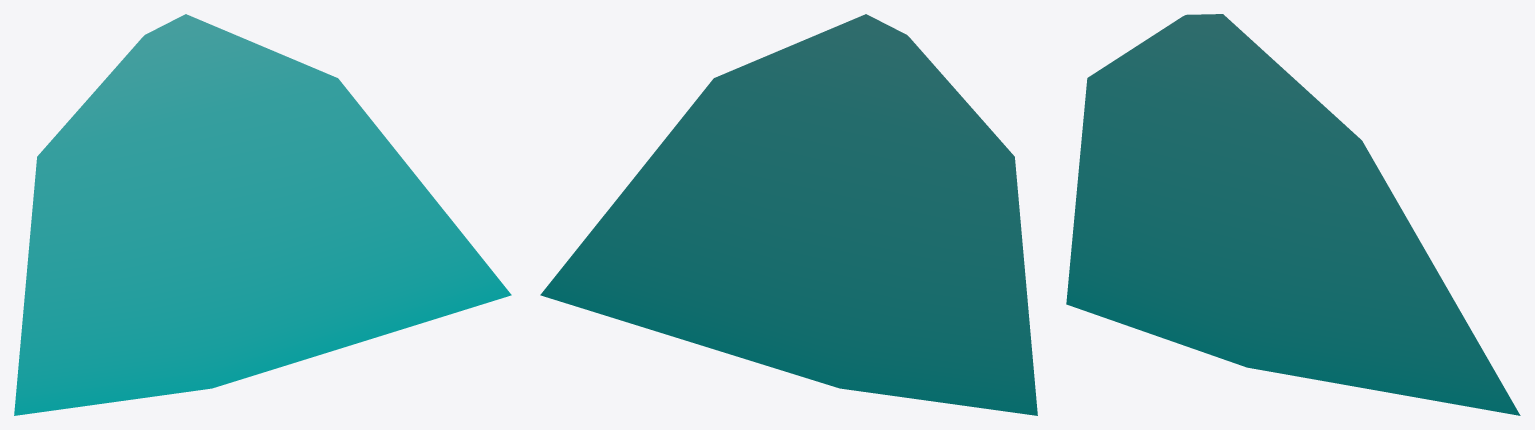
The model's file is Dead_Shrubs_vdknafgha_Low_vdknafgha_VarF_LOD3.fbx.
3 renders of one model, left to right at view 1: azimuth 30°, elevation 25°; view 2: azimuth 150°, elevation 25°; view 3: azimuth 330°, elevation 25°, orthographic. The views are drawn at different scales.
Parts seen in each view (by area): view 1: _yfr3_VarF_LOD4; view 2: _yfr3_VarF_LOD4; view 3: _yfr3_VarF_LOD4.
Part boxes in pixels (left/top/right/bottom): _yfr3_VarF_LOD4: left=14, top=14, right=511, bottom=415; _yfr3_VarF_LOD4: left=540, top=14, right=1037, bottom=415; _yfr3_VarF_LOD4: left=1066, top=14, right=1520, bottom=415.
Size of the model in its own units: 72.15 by 52.76 by 0.
